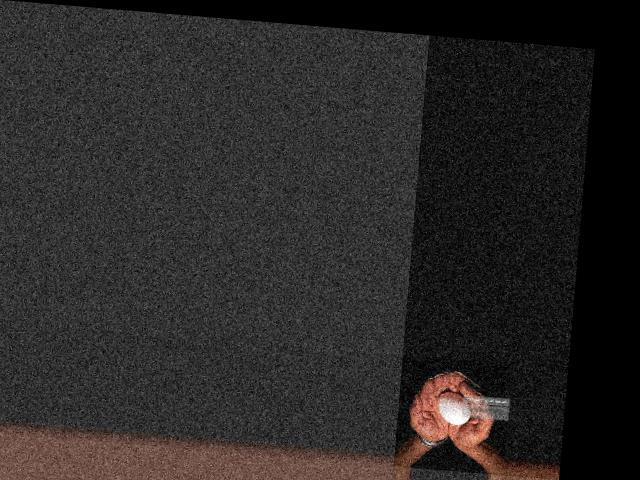egg: (435, 390, 471, 425)
